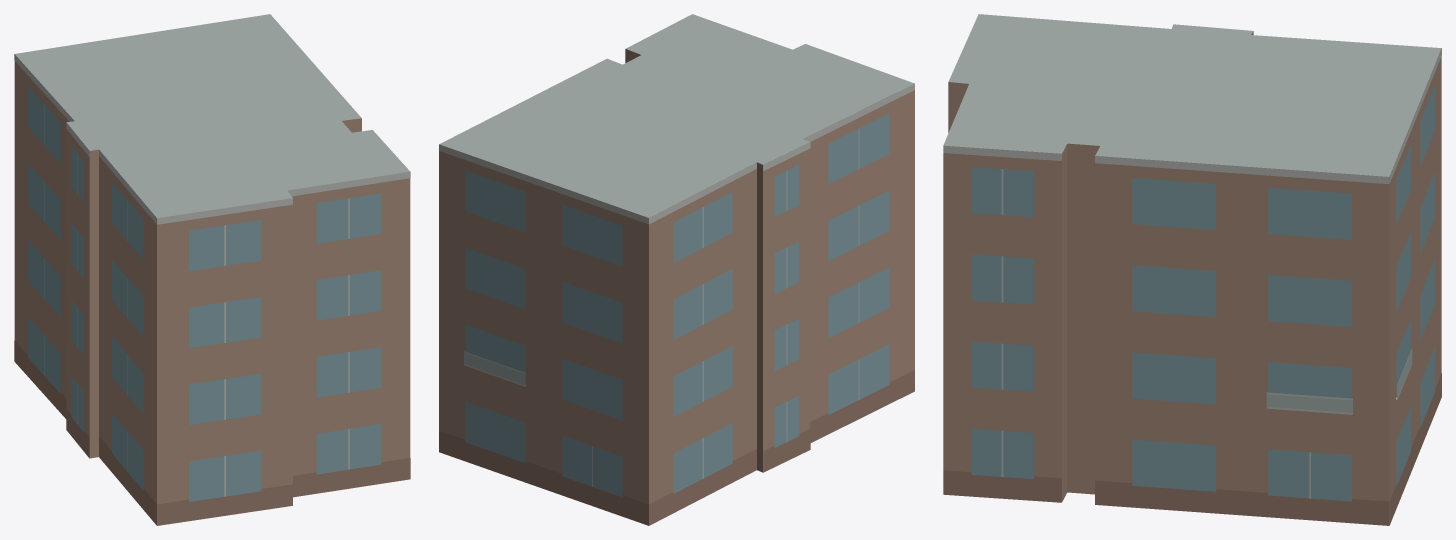
Rendered from survey-upis-32871184.glb.
The picture shows the model from 3 angles, left to right: view 1: azimuth 30°, elevation 25°; view 2: azimuth 150°, elevation 25°; view 3: azimuth 270°, elevation 25°; orthographic projection. The views are drawn at different scales.
Parts seen in each view (by area): view 1: survey-upis-32871184.tmp; view 2: survey-upis-32871184.tmp; view 3: survey-upis-32871184.tmp.
Boxes of the visible parts, x1,y1,x2,y2 form: survey-upis-32871184.tmp: (14, 14, 410, 525); survey-upis-32871184.tmp: (439, 14, 914, 525); survey-upis-32871184.tmp: (943, 14, 1441, 525).
Size of the model in its own units: 11.62 by 11.6 by 15.03.
